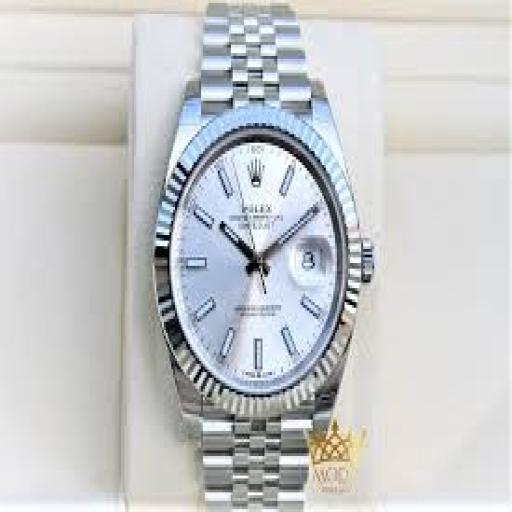KolSaati: (140, 0, 371, 512)
